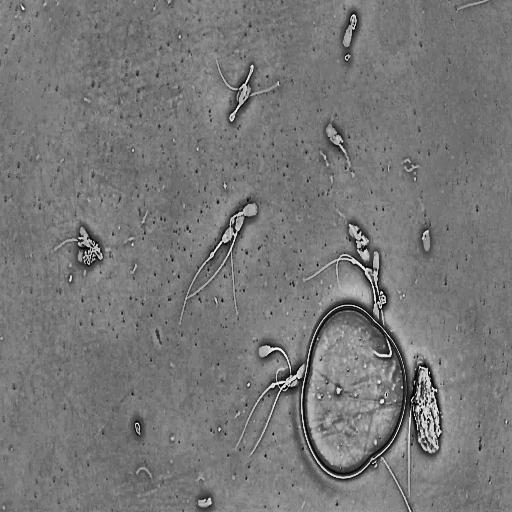coiled-tail: (350, 14, 357, 28)
dirt-particles: (300, 298, 409, 483), (410, 363, 444, 457), (54, 226, 104, 267), (347, 219, 371, 266), (133, 420, 142, 438), (344, 52, 351, 62)
distal-droplet: (351, 258, 356, 264), (210, 252, 214, 258), (271, 382, 275, 388)
folded-tail: (229, 210, 243, 315), (374, 282, 392, 357), (217, 61, 254, 90), (238, 83, 279, 109), (271, 347, 292, 391), (229, 108, 238, 122), (248, 68, 252, 80)
normal: (248, 359, 310, 458), (185, 206, 247, 300), (179, 223, 235, 325), (234, 371, 301, 451), (229, 201, 259, 316), (335, 252, 381, 324), (301, 255, 380, 287), (228, 78, 281, 124), (371, 249, 393, 359), (214, 56, 255, 104), (256, 342, 292, 395), (341, 10, 358, 53)
